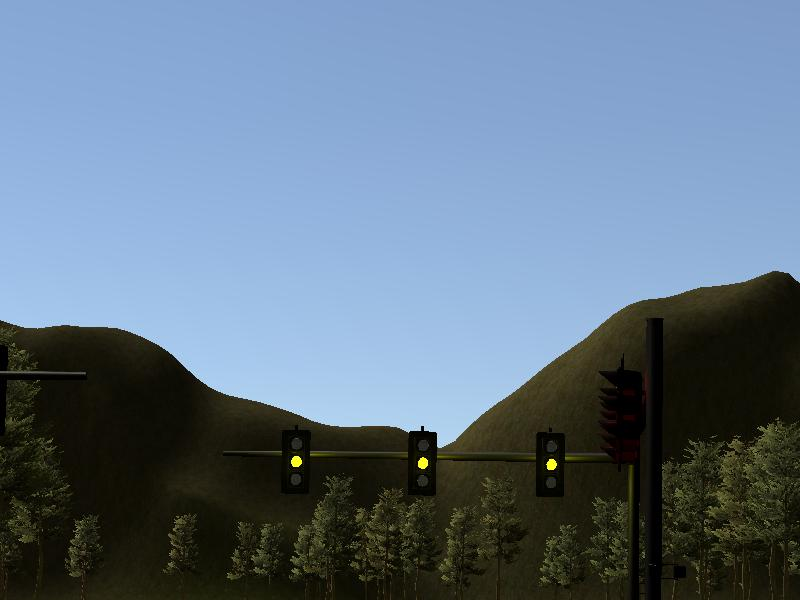Yellow: (408, 429, 436, 494), (537, 431, 564, 498), (283, 430, 311, 491)
